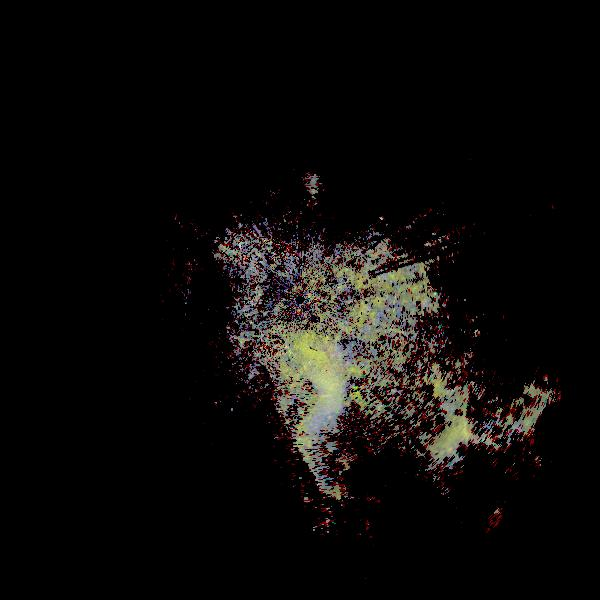roost: (209, 113, 338, 242), (249, 331, 357, 439), (434, 418, 506, 490)
